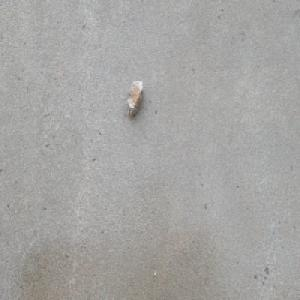Rock: (126, 79, 145, 118)
